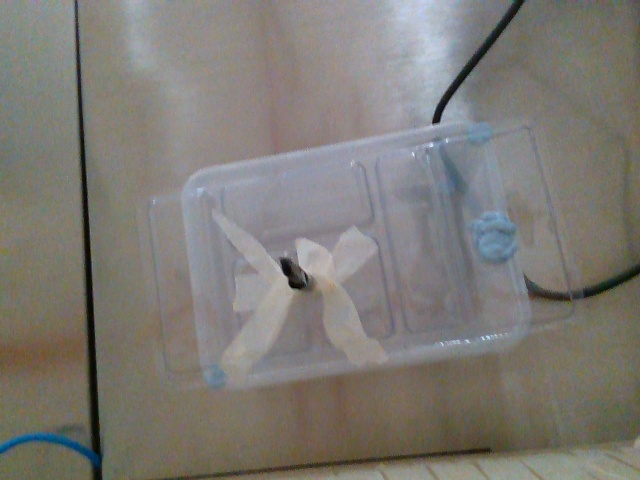test_strip: (278, 252, 303, 287)
